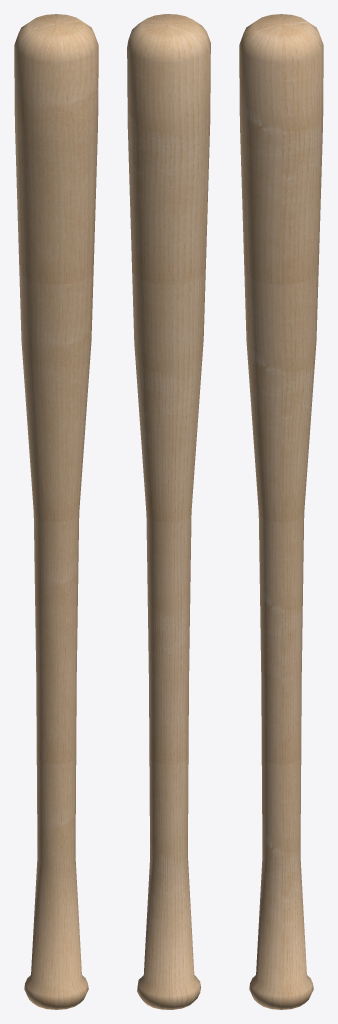
File: BATNORMALGACHA.glb
The picture shows the model from 3 angles, left to right: view 1: azimuth 90°, elevation 25°; view 2: azimuth 210°, elevation 25°; view 3: azimuth 270°, elevation 25°; orthographic projection.
Parts seen in each view (by area): view 1: Cube; view 2: Cube; view 3: Cube.
Boxes of the visible parts, <box> form: Cube: <box>14,14,98,1009</box>; Cube: <box>127,14,210,1009</box>; Cube: <box>239,14,323,1009</box>.
Size of the model in its own units: 0.3148 by 4.01 by 0.3148.
Materials: 1 (1 with a texture image).
